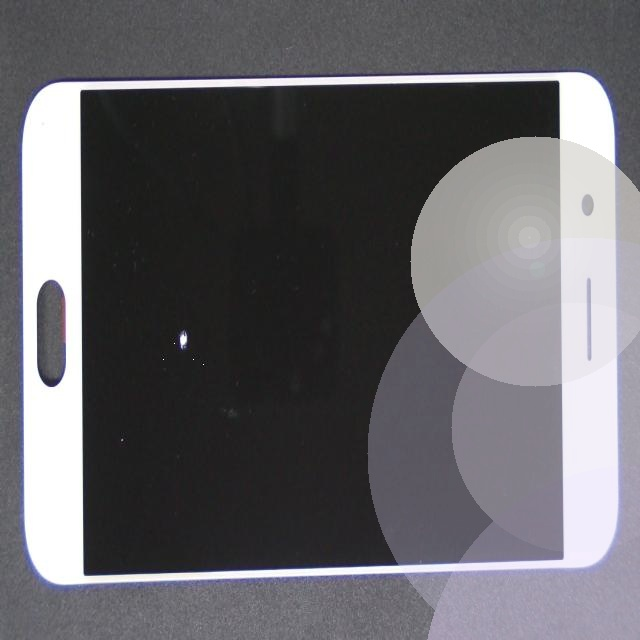stain: (86, 198, 257, 593)
